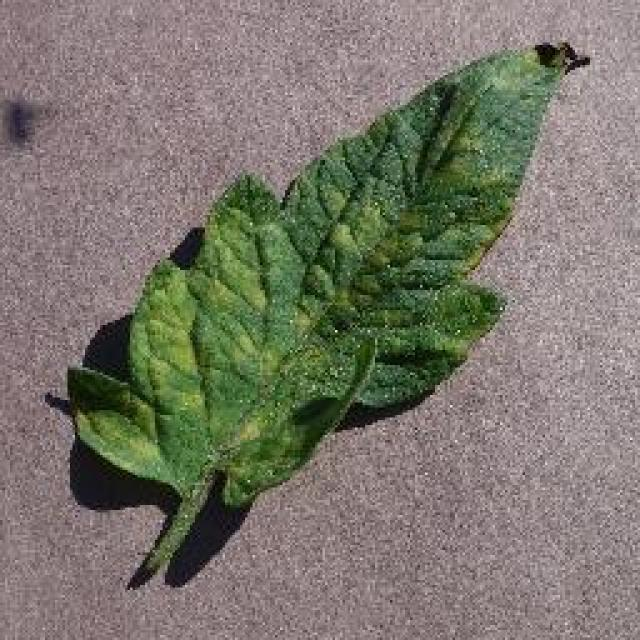Tomato mold leaf: (71, 30, 594, 505)
